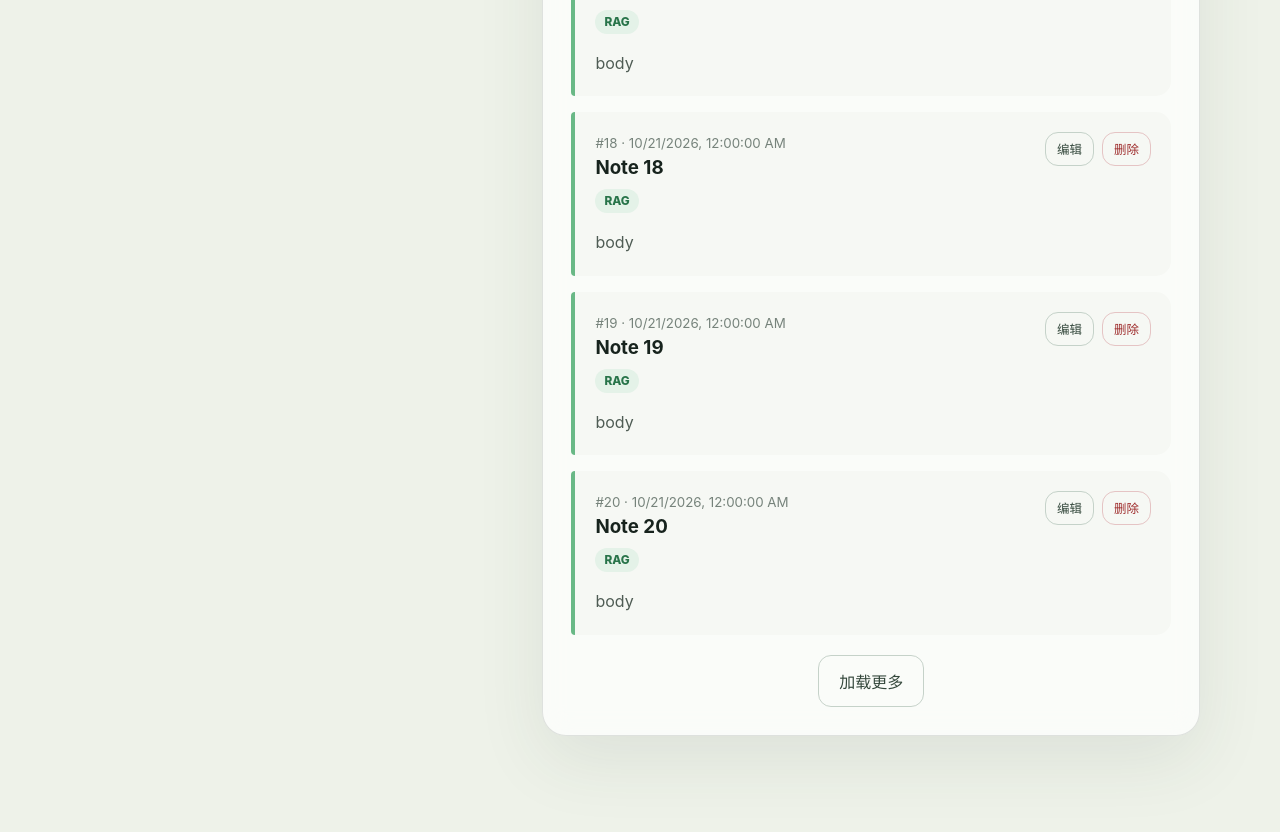
App › ignores a stale later page after a tag search starts
The image size is (1280, 832).
(page scrolled)
Click the button with class "load-more": point(871, 681) [818,655,924,707]
(page scrolled)
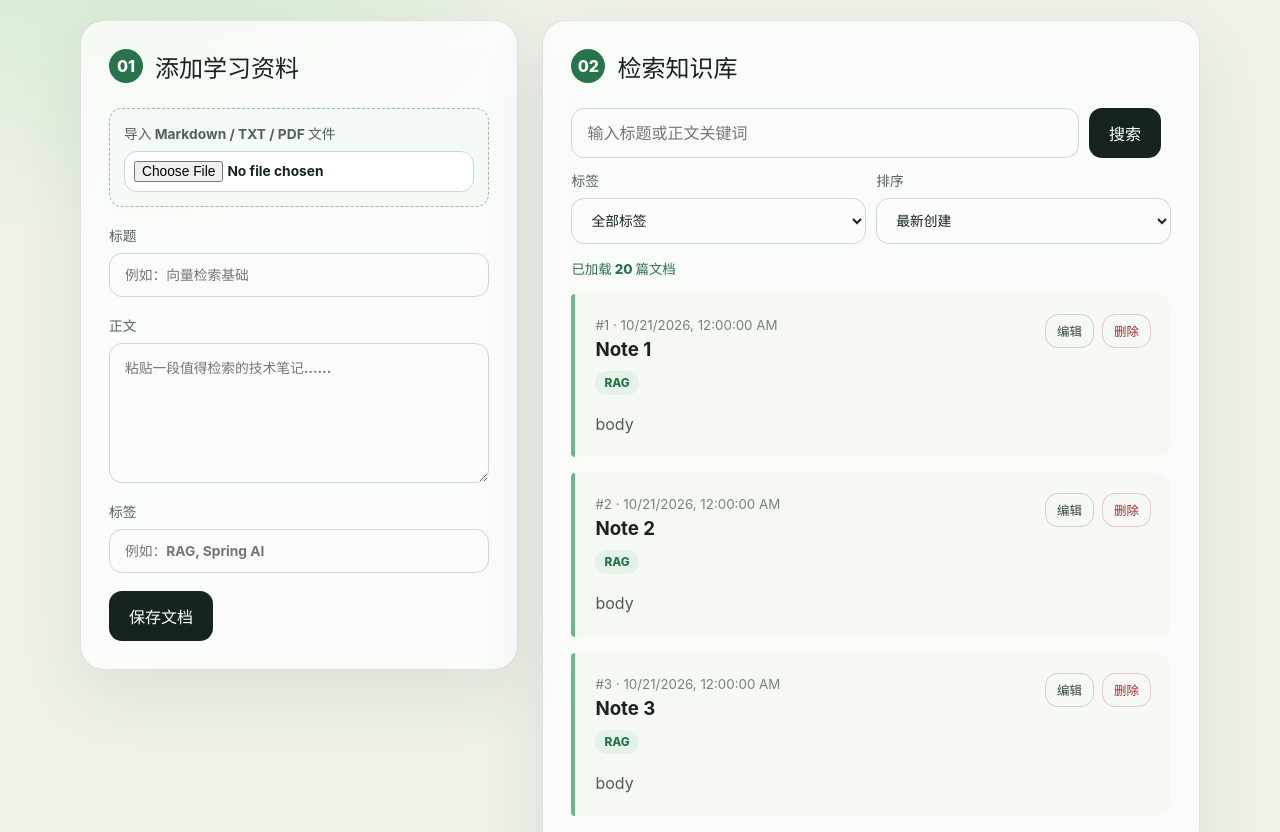
Click the button with class "tag-pill" below "#1 · 10/21/2026, 12:00:00 AM": point(617, 383) [595,371,639,395]
(page scrolled)
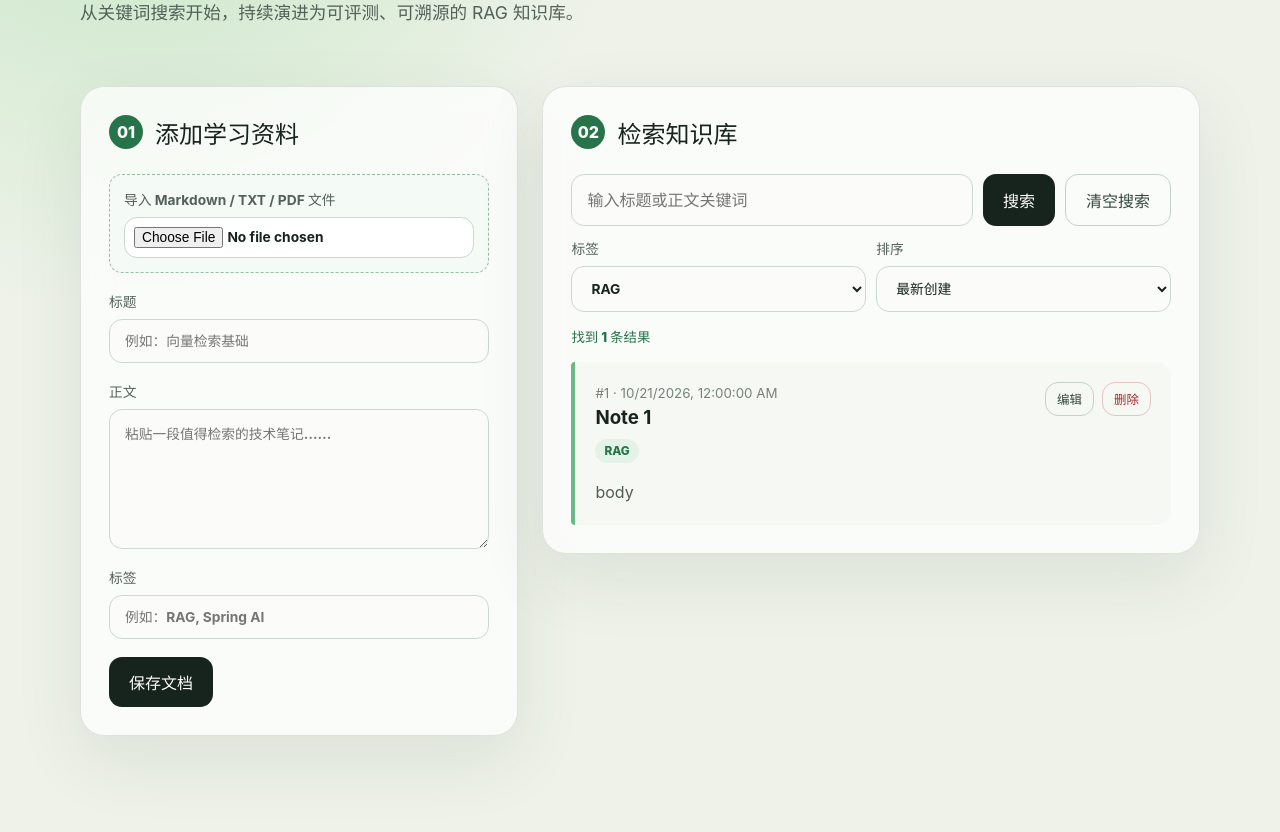
Check: the number of elements with class "document" is 1, box [571,362,1171,525]
